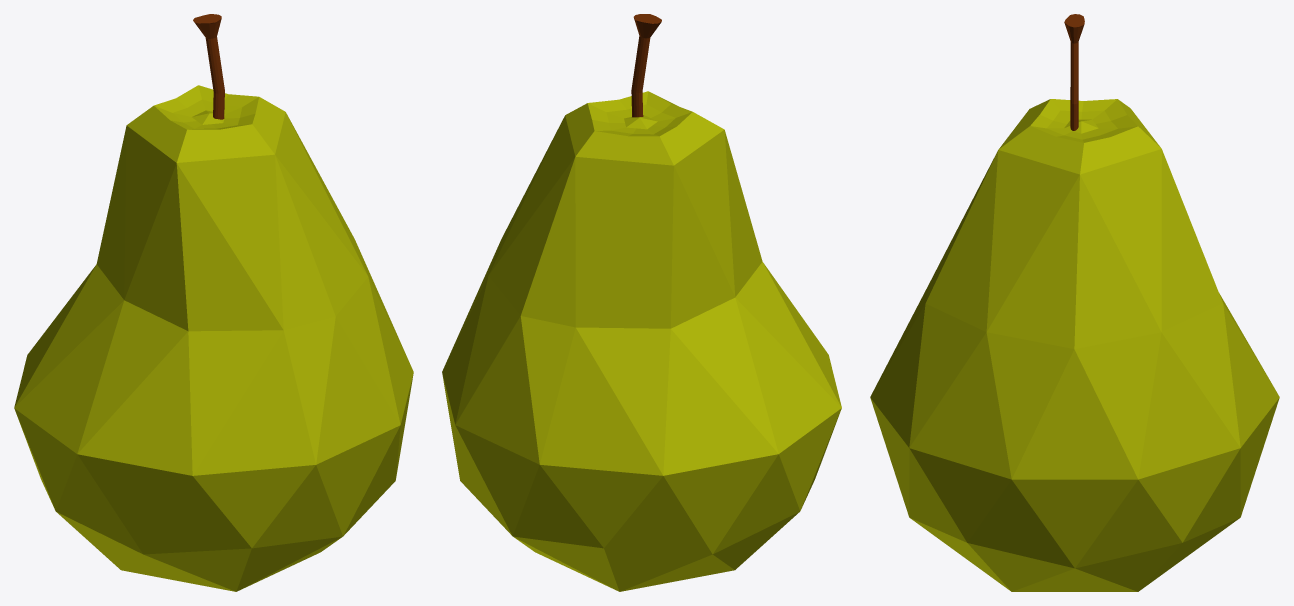
The model's file is pear.fbx.
3 views of the same model, side by side, from view 1: azimuth 30°, elevation 25°; view 2: azimuth 150°, elevation 25°; view 3: azimuth 270°, elevation 25° (orthographic).
Parts seen in each view (by area): view 1: Icosphere, Cylinder; view 2: Icosphere, Cylinder; view 3: Icosphere, Cylinder.
Boxes of the visible parts, x1,y1,x2,y2 form: Icosphere: (14, 85, 413, 591); Cylinder: (193, 14, 224, 119); Icosphere: (442, 91, 841, 591); Cylinder: (631, 14, 661, 117); Icosphere: (870, 99, 1279, 591); Cylinder: (1064, 14, 1084, 130).
Bounding box in the file's own units: 190 × 301 × 200.
